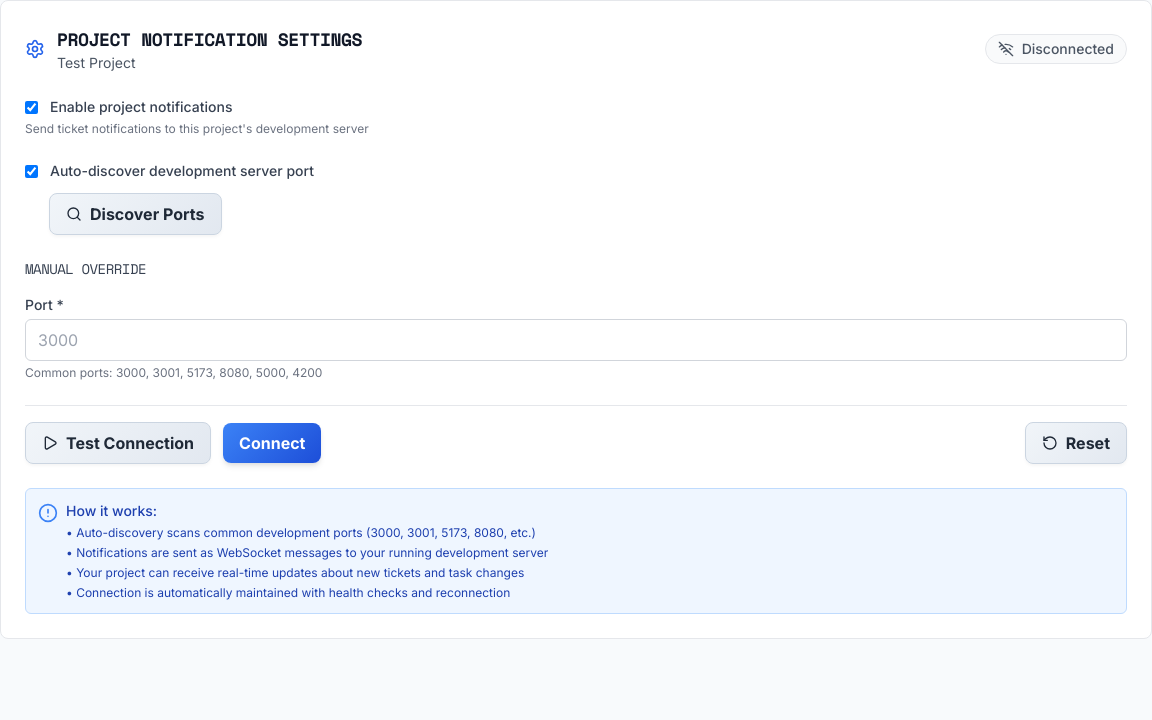
ProjectPortConfiguration Component › Auto-Discovery › should display error when no ports are found
Click the button "Discover Ports".
click(135, 214)  # box [49, 193, 222, 235]
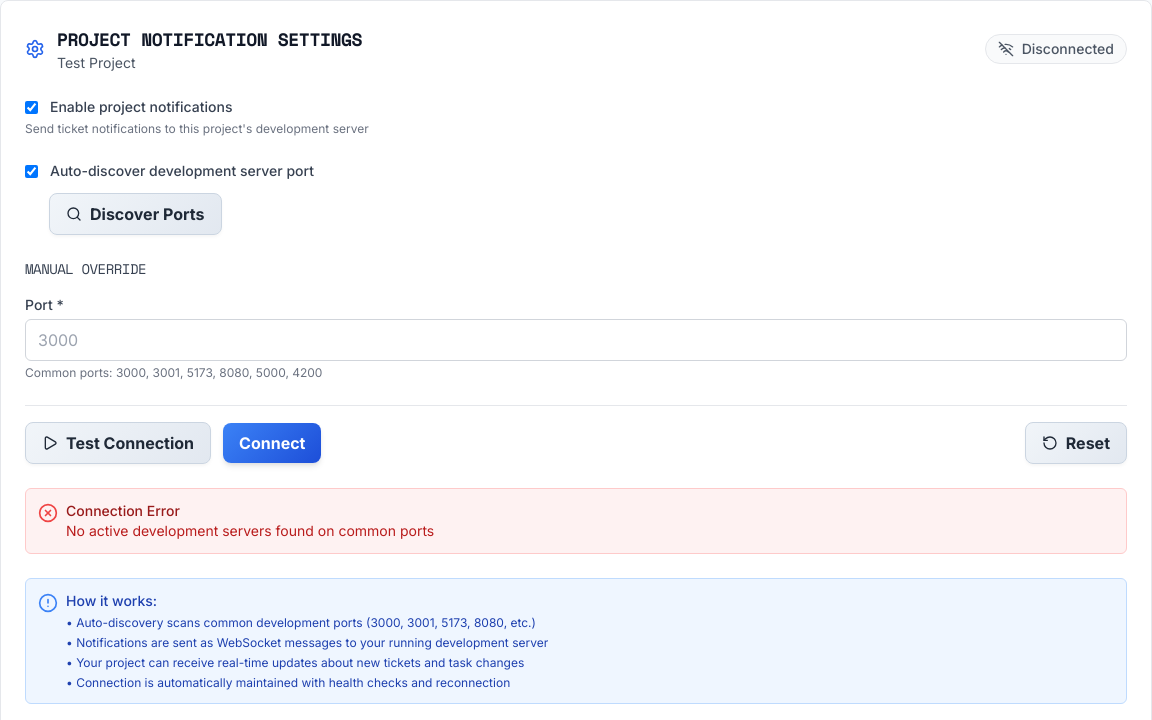
Result: the text "No active development servers found on common ports" is shown at [66, 521, 434, 541]
